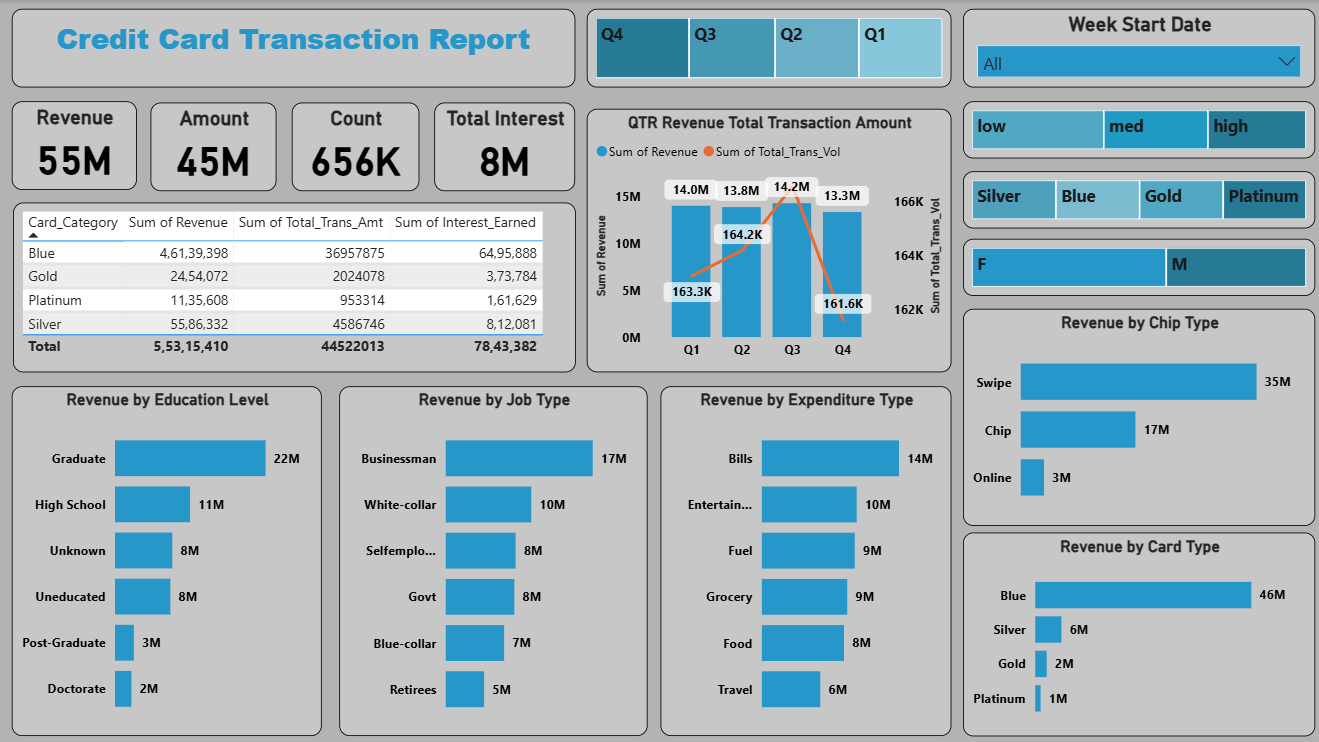

What the dashboard file says about the page in this screenshot:
{"tool":"powerbi","page":{"name":"CreditCard Trans","canvas":[1280,720],"ordinal":1},"visuals":[{"type":"textbox","box":[13.3,8.4,544.1,76],"z":0},{"type":"lineStackedColumnComboChart","title":"QTR Revenue Total Transaction Amount","fields":{"Category":["credit_card.Qtr"],"Y":["Sum(credit_card.Revenue)"],"Y2":["Sum(credit_card.Total_Trans_Vol)"]},"box":[568.2,105,352.3,254.6],"z":1000},{"type":"barChart","title":"Revenue by Expenditure Type","fields":{"Category":["credit_card.Exp Type"],"Y":["Sum(credit_card.Revenue)"]},"box":[639.4,372.8,281.1,337.8],"z":2000},{"type":"barChart","title":"Revenue by Education Level","fields":{"Y":["Sum(credit_card.Revenue)"],"Category":["customer.Education_Level"]},"box":[13.3,372.8,299.2,337.8],"z":3000},{"type":"barChart","title":"Revenue by Job Type","fields":{"Y":["Sum(credit_card.Revenue)"],"Category":["customer.Customer_Job"]},"box":[329.4,372.8,298,337.8],"z":4000},{"type":"barChart","title":"Revenue by Card Type","fields":{"Y":["Sum(credit_card.Revenue)"],"Category":["credit_card.Card_Category"]},"box":[931.4,513.9,340.2,196.6],"z":5000},{"type":"barChart","title":"Revenue by Chip Type","fields":{"Y":["Sum(credit_card.Revenue)"],"Category":["credit_card.Use Chip"]},"box":[931.4,298,340.2,209.9],"z":6000},{"type":"tableEx","fields":{"Values":["credit_card.Card_Category","Sum(credit_card.Revenue)","Sum(credit_card.Total_Trans_Amt)","Sum(credit_card.Interest_Earned)"]},"box":[14.5,195.4,542.9,164.1],"z":7000},{"type":"card","title":"Revenue","fields":{"Values":["Sum(credit_card.Revenue)"]},"box":[13.3,97.7,120.6,85.7],"z":8000},{"type":"card","title":"Total Interest","fields":{"Values":["Sum(credit_card.Interest_Earned)"]},"box":[421,98.9,136.3,85.7],"z":9000},{"type":"card","title":"Amount","fields":{"Values":["Sum(credit_card.Total_Trans_Amt)"]},"box":[147.2,98.9,121.9,85.7],"z":10000},{"type":"card","title":"Count","fields":{"Values":["Sum(credit_card.Total_Trans_Vol)"]},"box":[283.5,98.9,123.1,85.7],"z":11000},{"type":"slicer","title":"Week Start Date","fields":{"Values":["credit_card.Week_Start_Date"]},"box":[931.4,8.4,340.2,76],"z":12000},{"type":"treemap","fields":{"Group":["credit_card.Qtr"],"Values":["Avg(credit_card.Client_Num)"]},"box":[568.2,8.4,352.3,76],"z":13000},{"type":"treemap","fields":{"Values":["Sum(credit_card.Client_Num)"],"Group":["customer.Gender"]},"box":[931.4,230.4,340.2,55.5],"z":14000},{"type":"treemap","fields":{"Values":["Avg(credit_card.Client_Num)"],"Group":["credit_card.Card_Category"]},"box":[931.4,165.3,340.2,55.5],"z":15000},{"type":"treemap","fields":{"Values":["Sum(credit_card.Client_Num)"],"Group":["customer.IncomeGroup"]},"box":[931.4,97.7,340.2,55.5],"z":16000}]}

Visuals, with their boxes in screenshot pixels (x1, y1, x2, y2), scaled from the page's 1280x720 canvas onto the 1319x742 screenshot:
textbox: BBox(14, 9, 574, 87)
"QTR Revenue Total Transaction Amount" lineStackedColumnComboChart: BBox(586, 108, 949, 371)
"Revenue by Expenditure Type" barChart: BBox(659, 384, 949, 732)
"Revenue by Education Level" barChart: BBox(14, 384, 322, 732)
"Revenue by Job Type" barChart: BBox(339, 384, 647, 732)
"Revenue by Card Type" barChart: BBox(960, 530, 1310, 732)
"Revenue by Chip Type" barChart: BBox(960, 307, 1310, 523)
tableEx - credit_card.Card_Category x Sum(credit_card.Revenue): BBox(15, 201, 574, 370)
"Revenue" card: BBox(14, 101, 138, 189)
"Total Interest" card: BBox(434, 102, 574, 190)
"Amount" card: BBox(152, 102, 277, 190)
"Count" card: BBox(292, 102, 419, 190)
"Week Start Date" slicer: BBox(960, 9, 1310, 87)
treemap - credit_card.Qtr x Avg(credit_card.Client_Num): BBox(586, 9, 949, 87)
treemap - Sum(credit_card.Client_Num) x customer.Gender: BBox(960, 237, 1310, 295)
treemap - Avg(credit_card.Client_Num) x credit_card.Card_Category: BBox(960, 170, 1310, 228)
treemap - Sum(credit_card.Client_Num) x customer.IncomeGroup: BBox(960, 101, 1310, 158)
